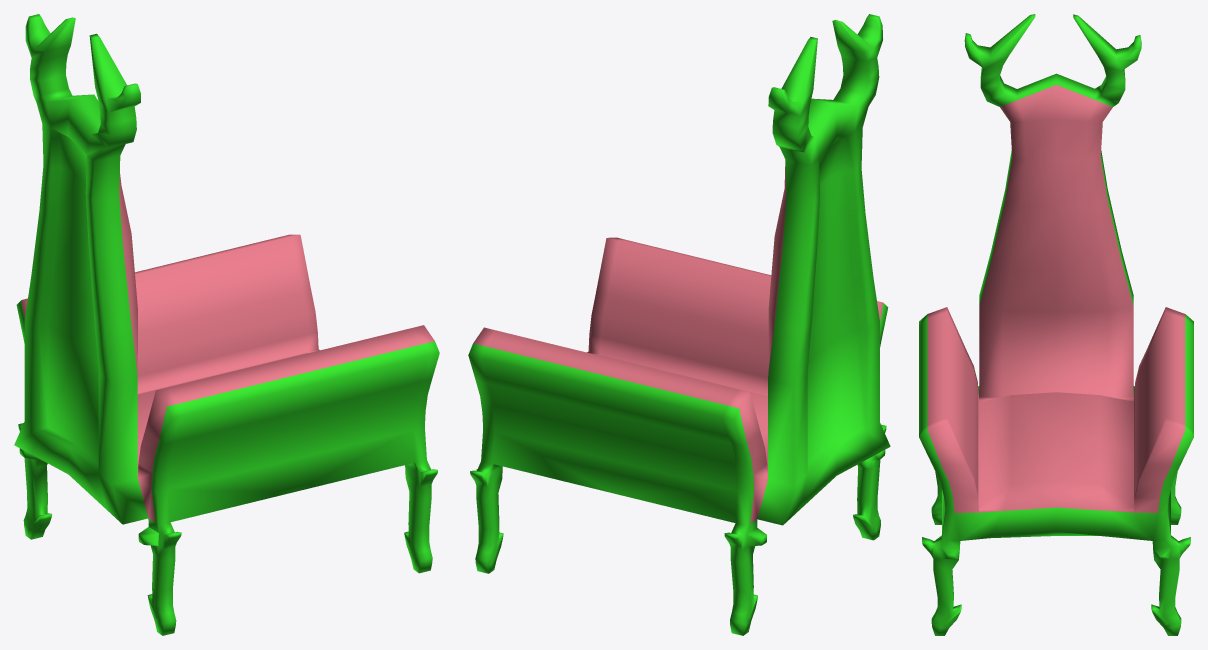
The model's file is Krzesło .fbx.
3 renders of one model, left to right at view 1: azimuth 30°, elevation 25°; view 2: azimuth 150°, elevation 25°; view 3: azimuth 270°, elevation 25°, orthographic. The views are drawn at different scales.
Visible parts, largest first — view 1: Cube.002; view 2: Cube.002; view 3: Cube.002.
Part boxes in pixels (<box>): Cube.002: <box>14,14,439,635</box>; Cube.002: <box>468,14,890,635</box>; Cube.002: <box>919,14,1193,635</box>.
Bounding box in the file's own units: 811 × 1443 × 720.
